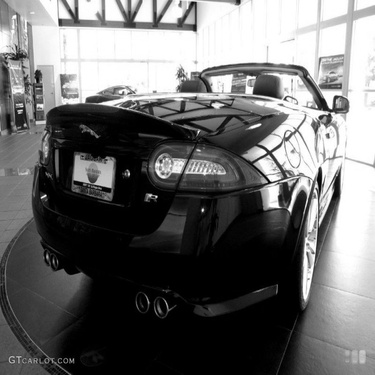car: (24, 81, 352, 319), (64, 69, 141, 98)
